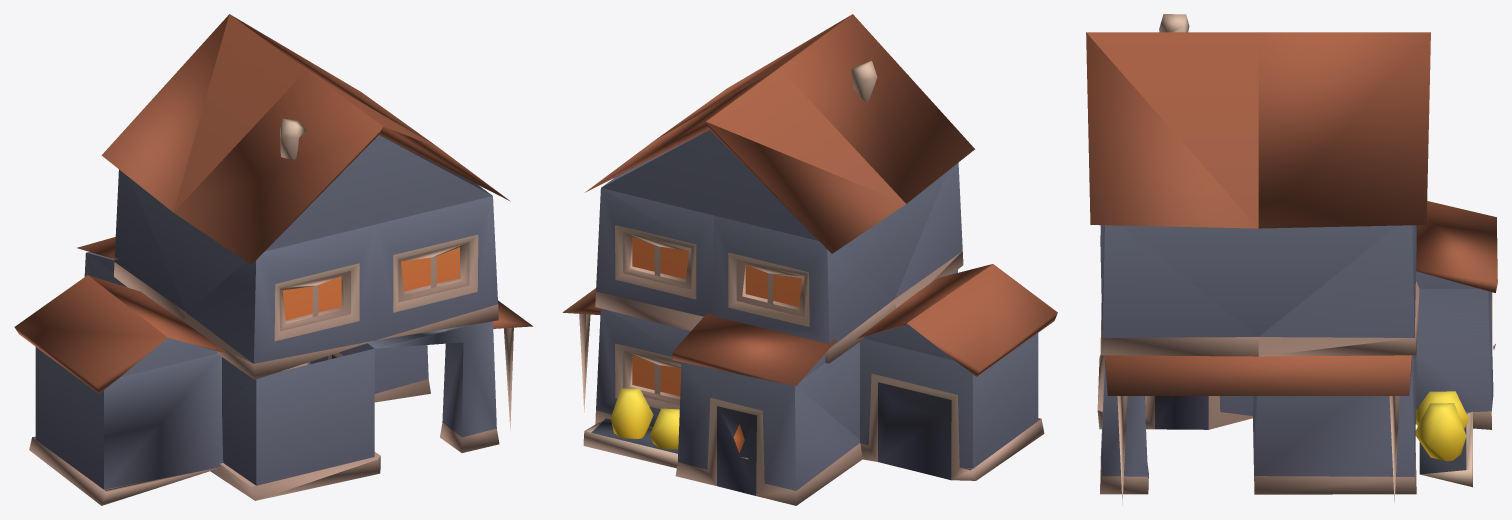
File: casa_s.fbx
3 renders of one model, left to right at view 1: azimuth 30°, elevation 25°; view 2: azimuth 150°, elevation 25°; view 3: azimuth 270°, elevation 25°, orthographic. The views are drawn at different scales.
Visible parts, largest first — view 1: casa_s; view 2: casa_s; view 3: casa_s.
Boxes of the visible parts, left/top/right/bottom form: casa_s: left=14, top=14, right=532, bottom=505; casa_s: left=562, top=14, right=1057, bottom=505; casa_s: left=1086, top=14, right=1497, bottom=505.
Bounding box in the file's own units: 1.39 × 1.14 × 1.07.
